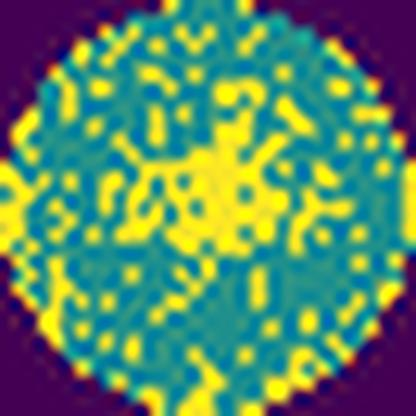Center: (108, 100, 297, 260)
